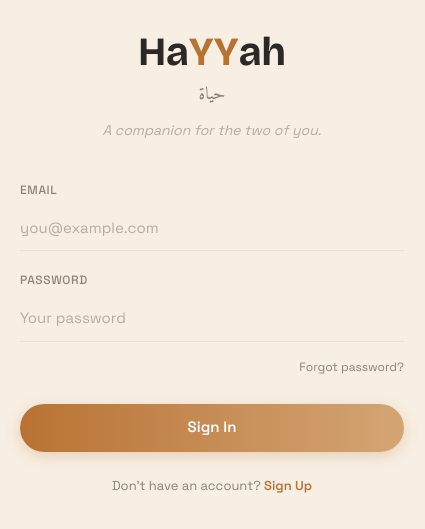
Scenario: Login Page › shows error message on failed sign in
Type "wrong@example.com" into the field with placeholder "you@example.com" at {"x": 212, "y": 228}, box [20,205,404,251]
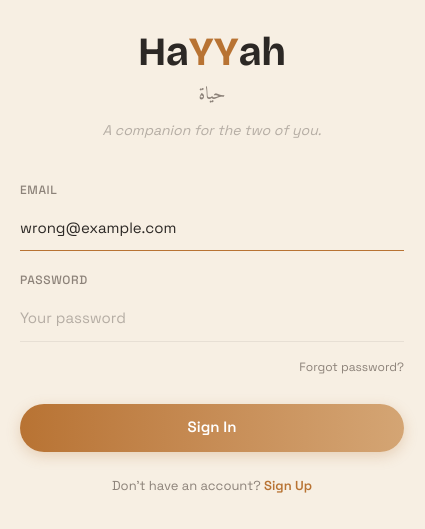
Type "wrongpass" into the password field with placeholder "Your password" at {"x": 212, "y": 318}, box [20,295,404,342]
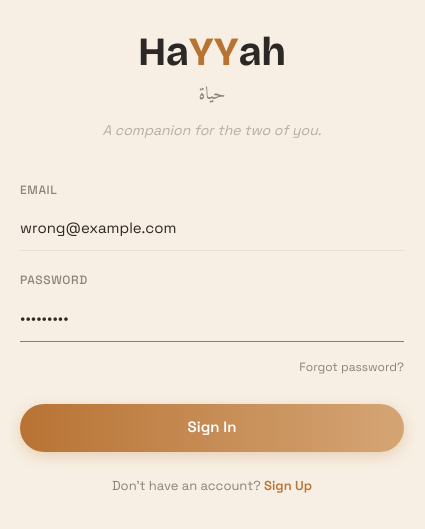
Click the button "Sign In" at {"x": 212, "y": 428}, box [20,404,404,452]
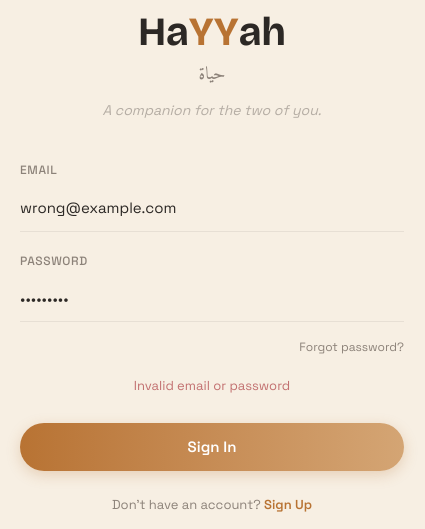
Result: the text "Invalid email or password" is shown at [134,377,290,394]
